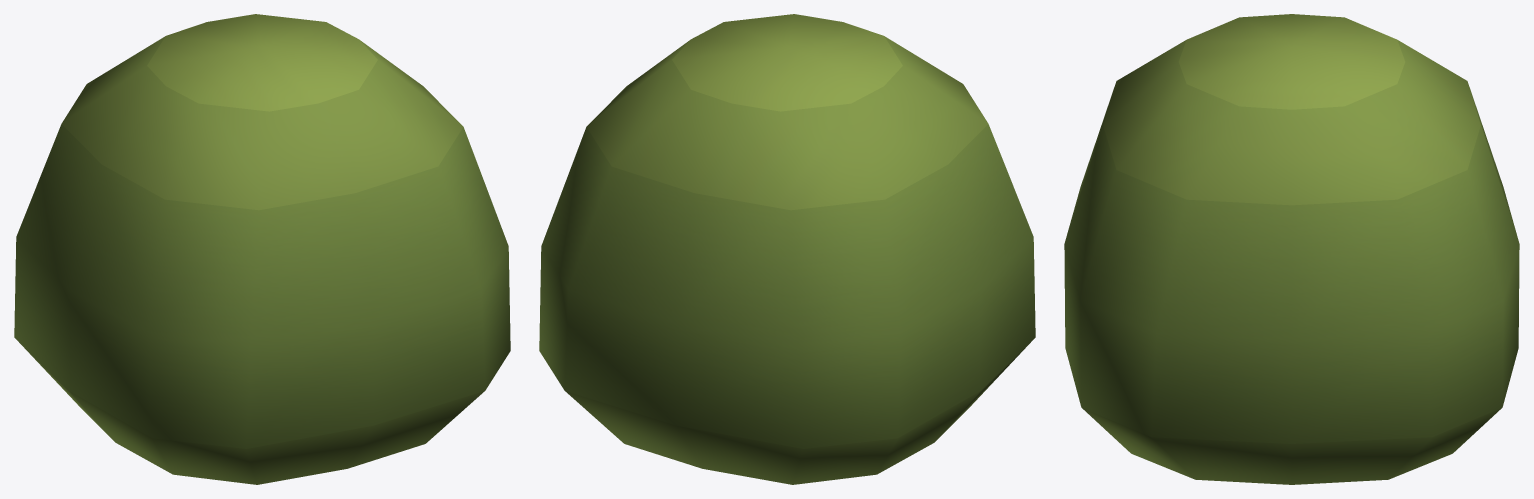
File: bush_plant_small.fbx
The picture shows the model from 3 angles, left to right: view 1: azimuth 30°, elevation 25°; view 2: azimuth 150°, elevation 25°; view 3: azimuth 270°, elevation 25°; orthographic projection.
Visible parts, largest first — view 1: bush_plant_small; view 2: bush_plant_small; view 3: bush_plant_small.
Boxes of the visible parts, bbox=[...] form: bush_plant_small: bbox=[14, 14, 510, 484]; bush_plant_small: bbox=[539, 14, 1035, 484]; bush_plant_small: bbox=[1064, 14, 1519, 484].
Bounding box in the file's own units: 52.52 × 48.54 × 52.52.
